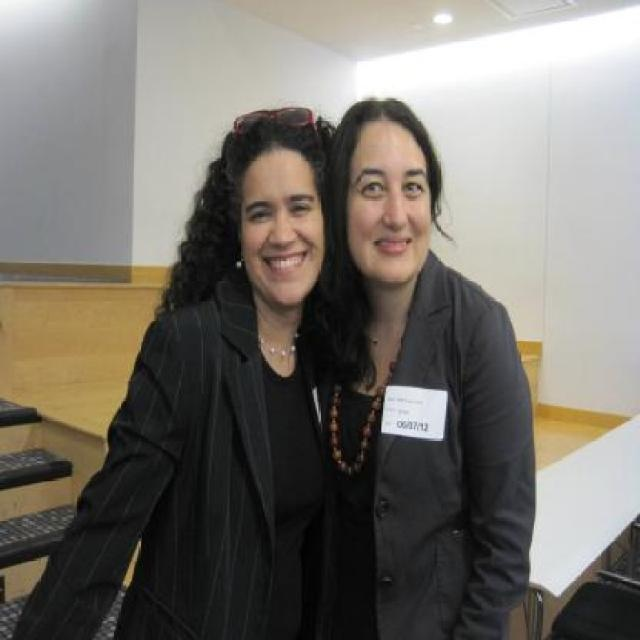stair: (0, 397, 128, 640)
